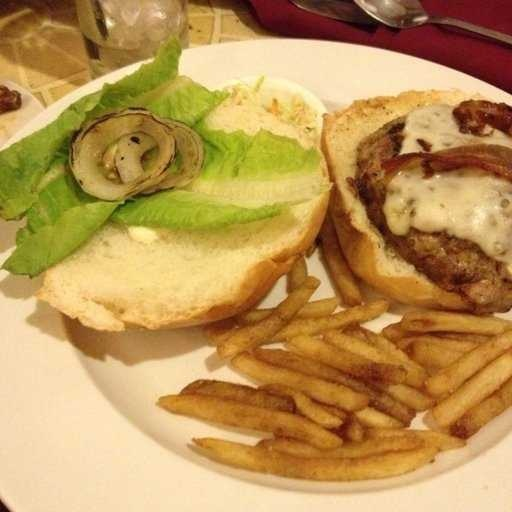hamburger: (15, 73, 507, 315)
